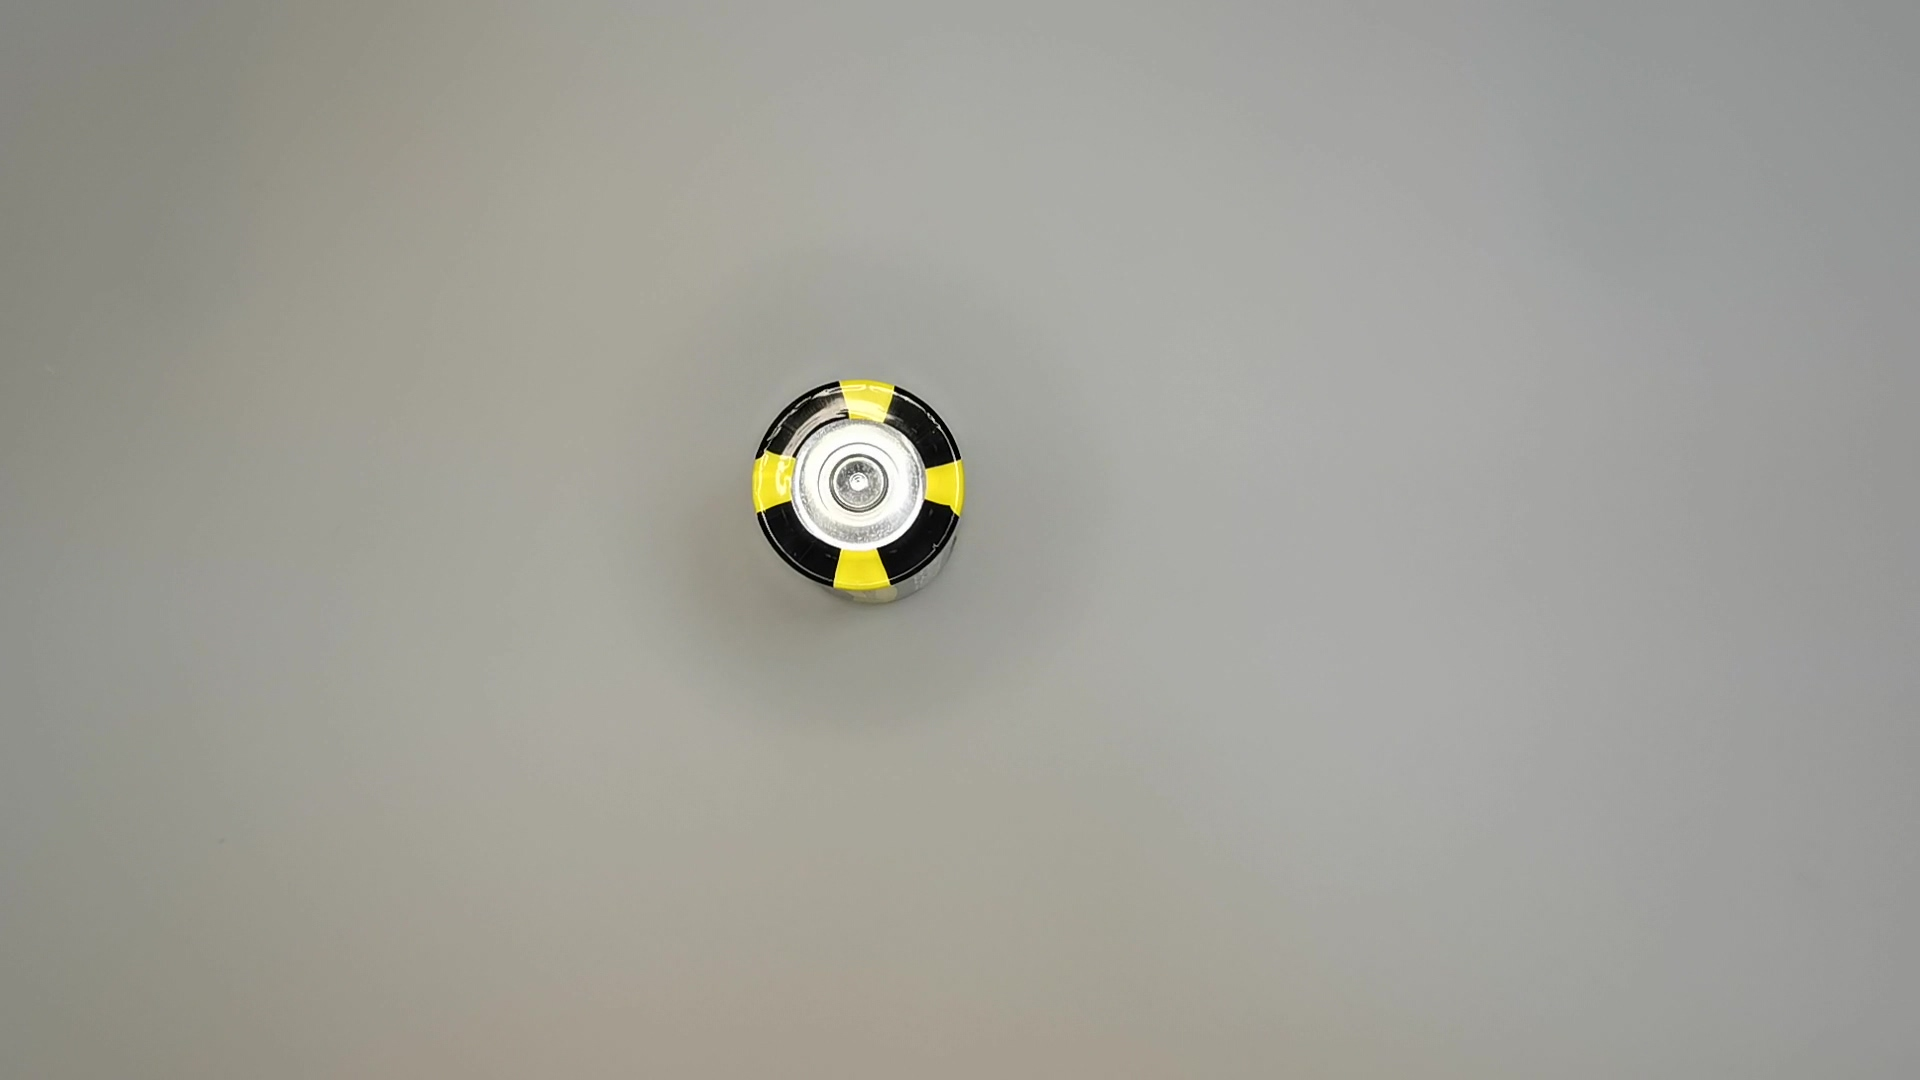battery: (738, 375, 984, 605)
